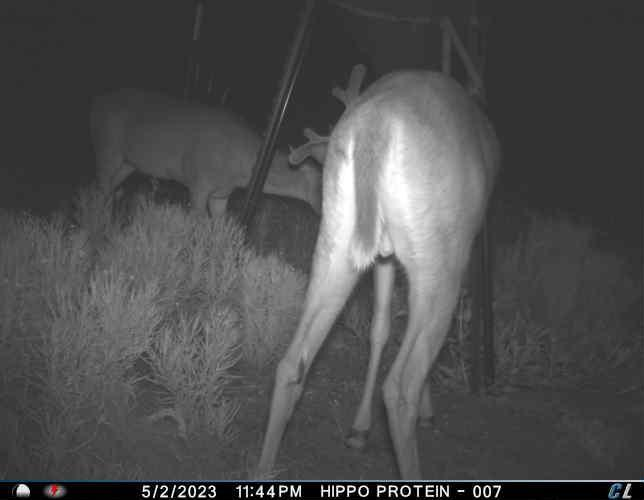Deer: (253, 59, 509, 481), (83, 81, 319, 231)
